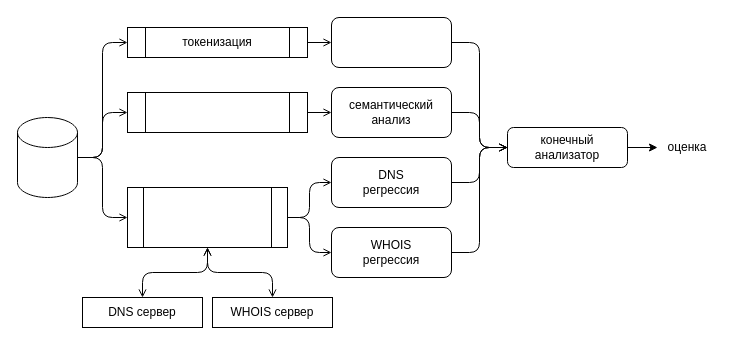
Image size: 735x345. Some labels were removed from this diagram. The shapes that lost their labels are listed below. From the top down, each one's centre as x and y in pixels, then its label:
the point at 391,42: DGA классификатор
the point at 217,112: предобработка семантики
the point at 47,157: Банк данных
the point at 207,217: обогащение и предобработка данных
